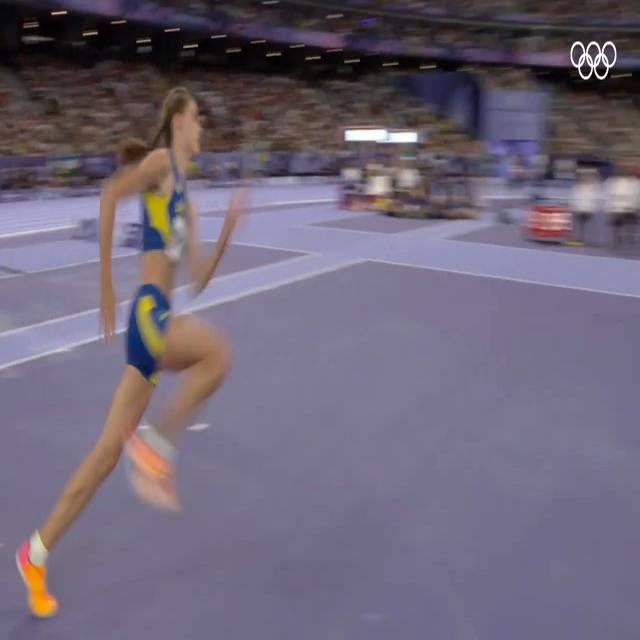run: (12, 81, 256, 622)
